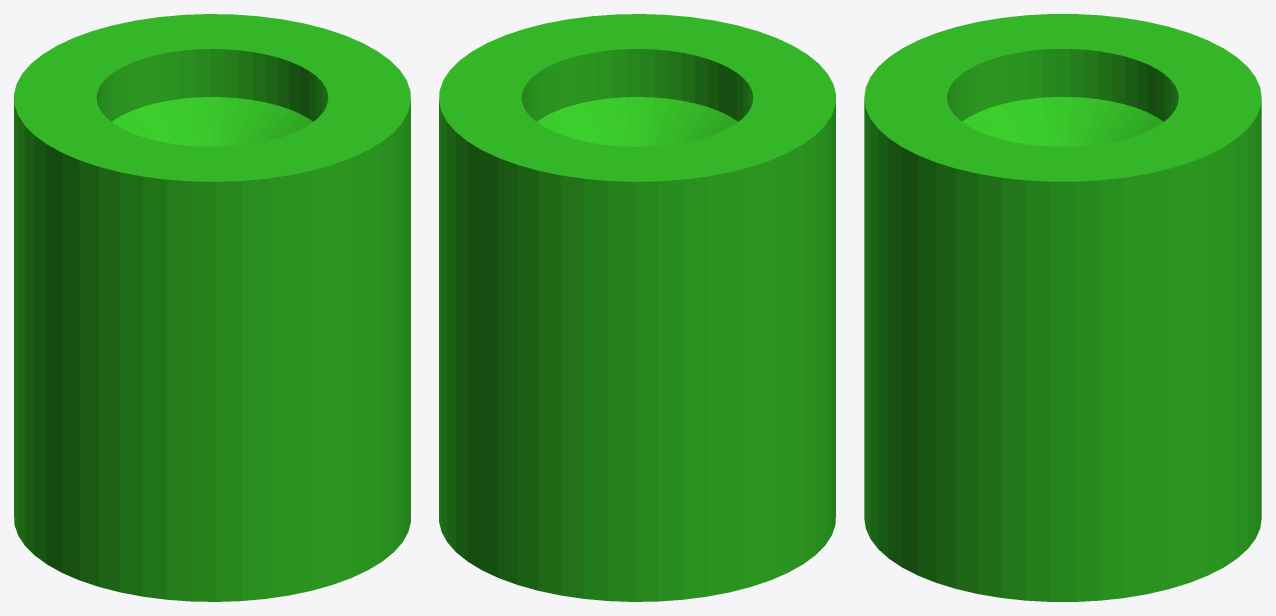
Rendered from pied_vert.dae.
3 views of the same model, side by side, from view 1: azimuth 30°, elevation 25°; view 2: azimuth 150°, elevation 25°; view 3: azimuth 270°, elevation 25° (orthographic).
Parts seen in each view (by area): view 1: PiedVert; view 2: PiedVert; view 3: PiedVert.
Boxes of the visible parts, x1,y1,x2,y2 form: PiedVert: [14, 14, 410, 601]; PiedVert: [439, 14, 835, 601]; PiedVert: [864, 14, 1261, 601].
Size of the model in its own units: 0.0599 by 0.06 by 0.07.
